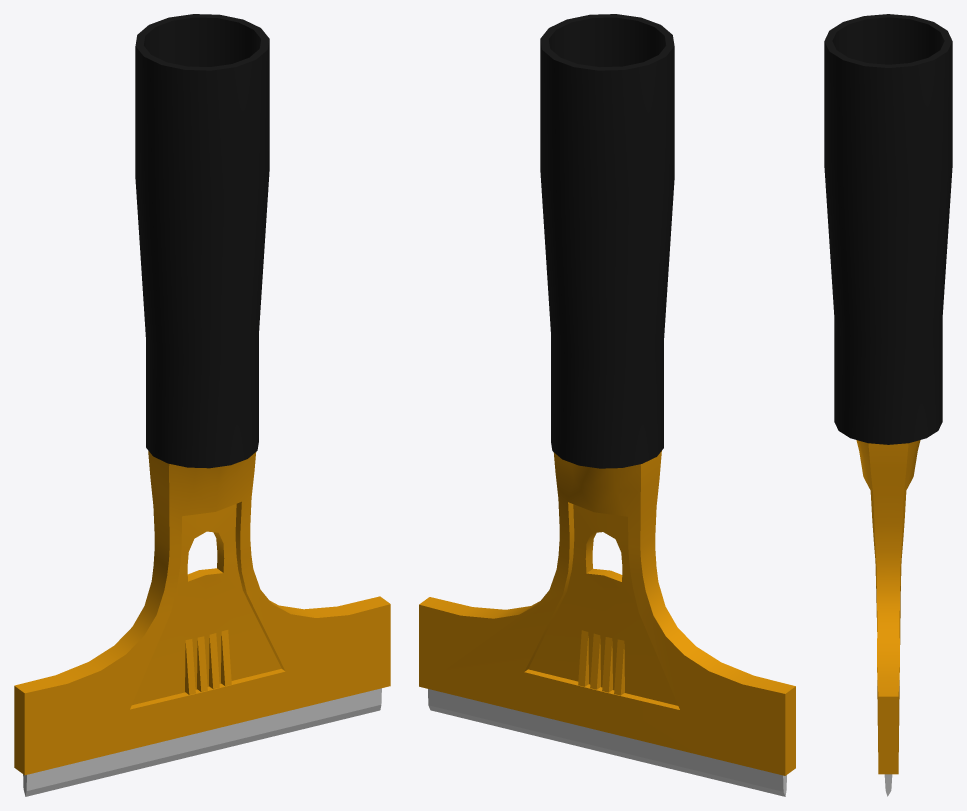
The model's file is Rascador.fbx.
3 views of the same model, side by side, from view 1: azimuth 30°, elevation 25°; view 2: azimuth 150°, elevation 25°; view 3: azimuth 270°, elevation 25° (orthographic). The views are drawn at different scales.
Parts seen in each view (by area): view 1: Cylinder, BézierCurve, Cube.001, Cube.002; view 2: Cylinder, BézierCurve, Cube.001, Cube.002; view 3: Cylinder, BézierCurve.
Boxes of the visible parts, left/top/right/bottom form: Cylinder: left=135, top=14, right=269, bottom=468; BézierCurve: left=14, top=451, right=390, bottom=775; Cube.001: left=23, top=688, right=381, bottom=796; Cube.002: left=185, top=630, right=231, bottom=694; Cylinder: left=540, top=14, right=674, bottom=468; BézierCurve: left=419, top=451, right=795, bottom=775; Cube.001: left=428, top=689, right=786, bottom=796; Cube.002: left=578, top=630, right=624, bottom=695; Cylinder: left=824, top=14, right=952, bottom=444; BézierCurve: left=856, top=440, right=920, bottom=774.
Size of the model in its own units: 11.12 by 20.64 by 3.56.
